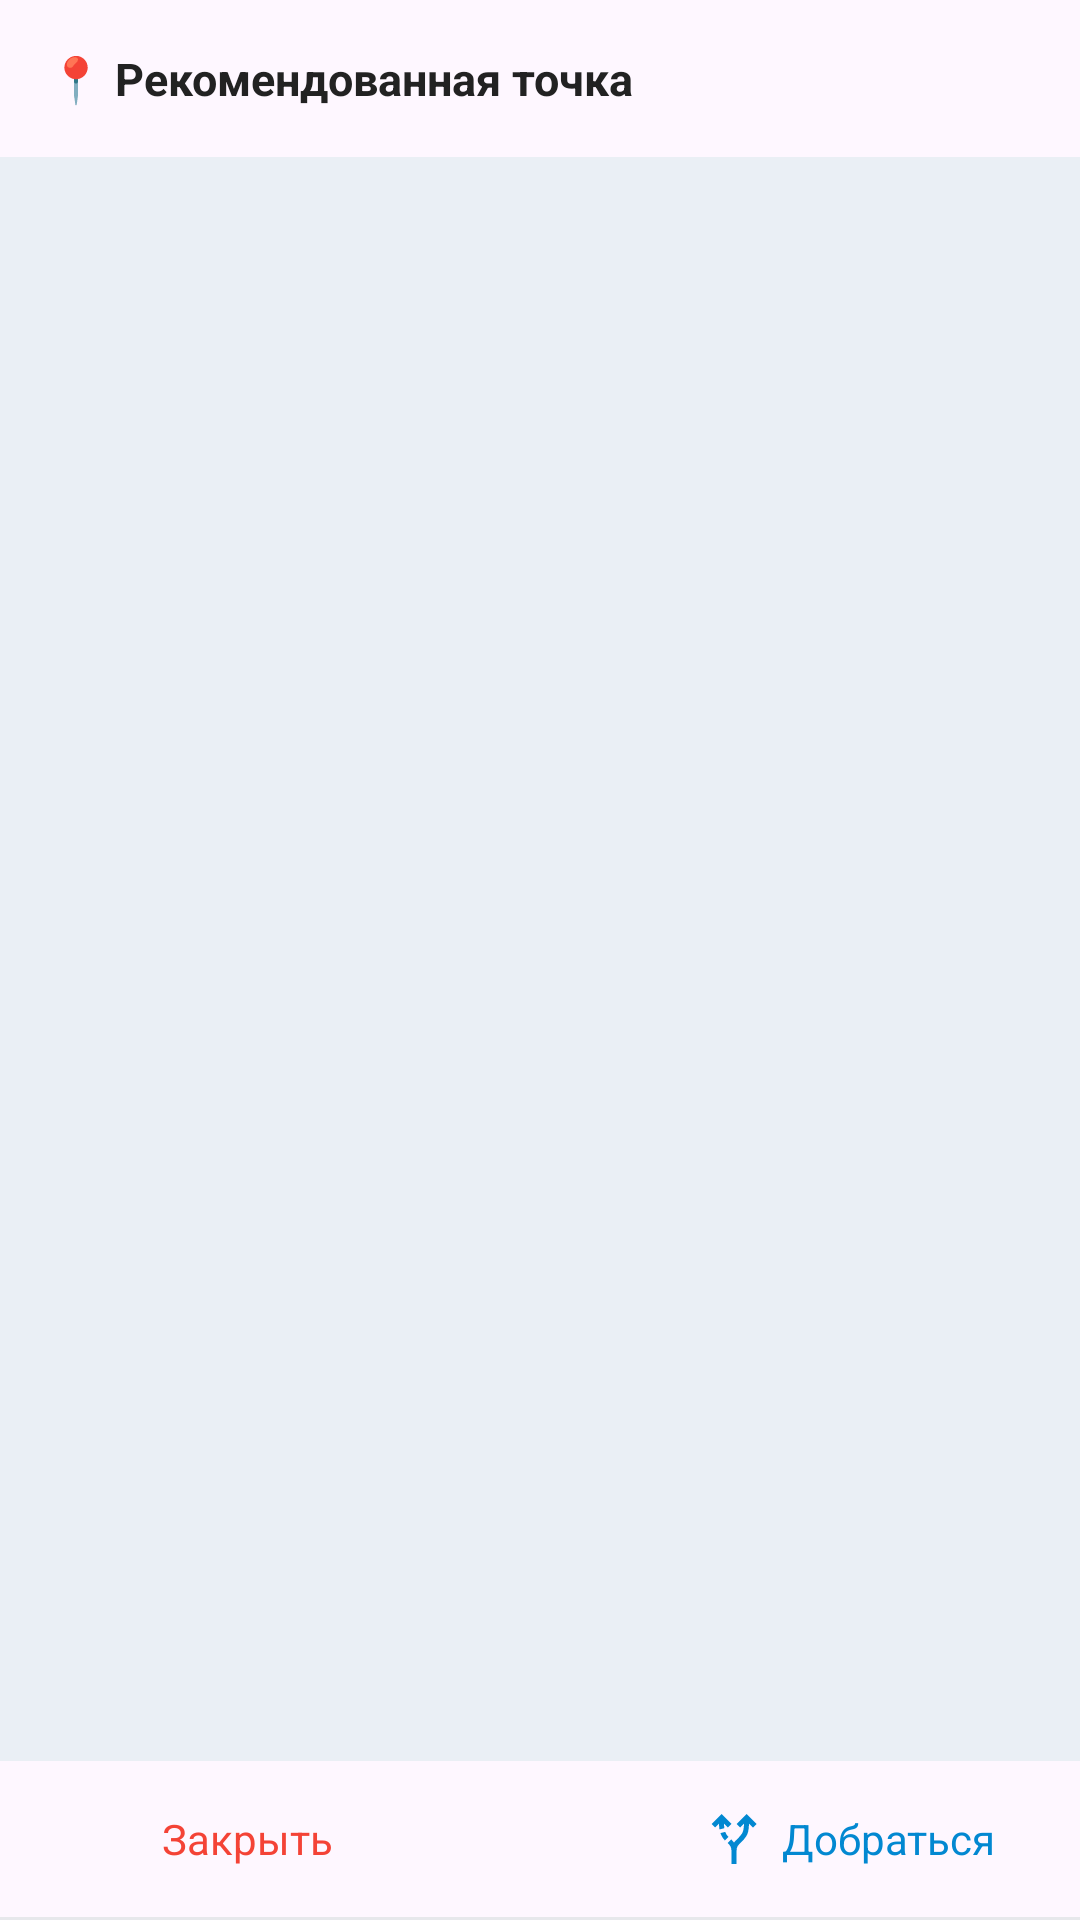

Point at icon controls on the screen. Image size 1080px x 1920px, points as (x,y).
route: (734,1839)
